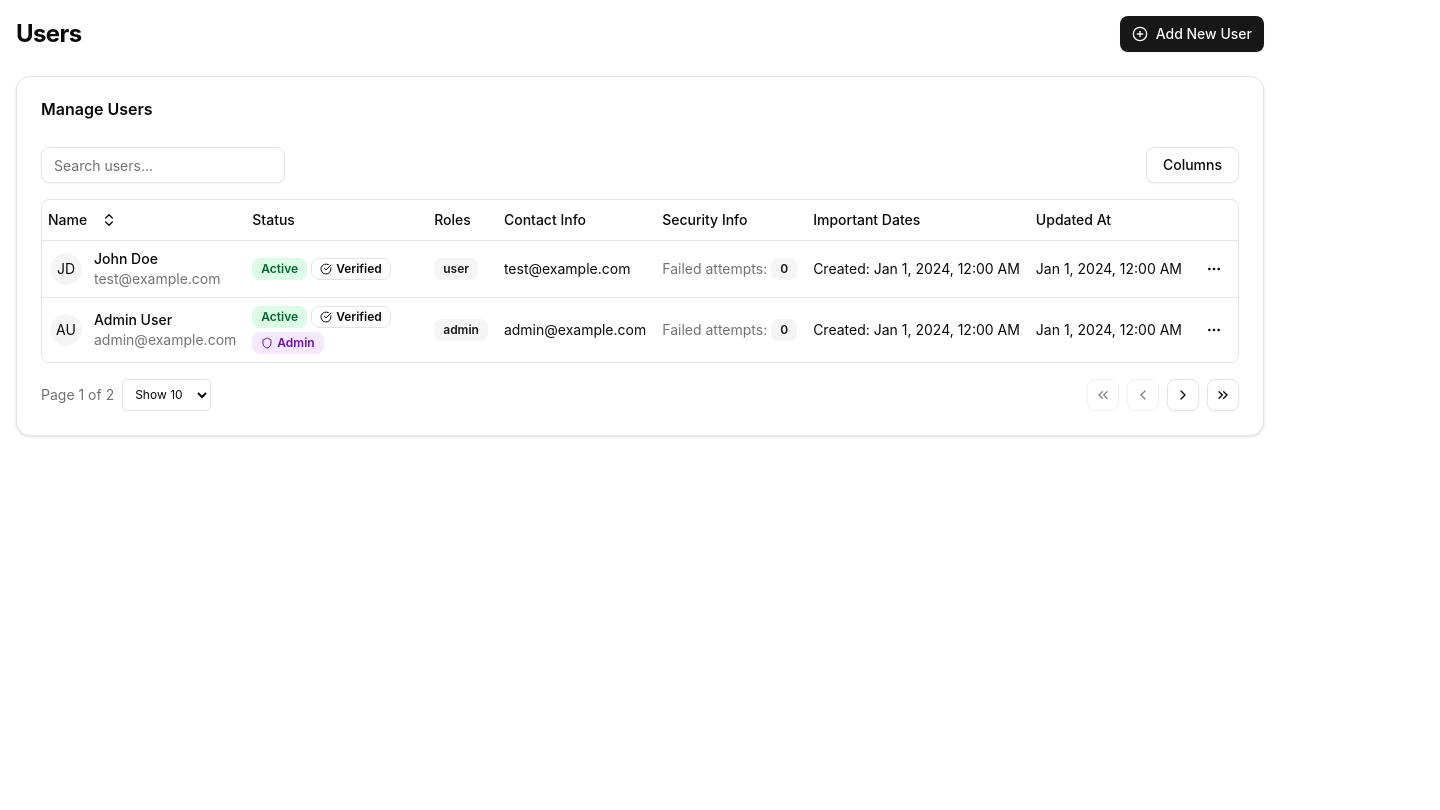
Test case: UsersList Component › User Operations (CRUD) › opens delete confirmation dialog when delete button is clicked
This screenshot has width=1440, height=810.
Click the 1st button named "open menu": (1214, 268) [1198,252,1230,284]
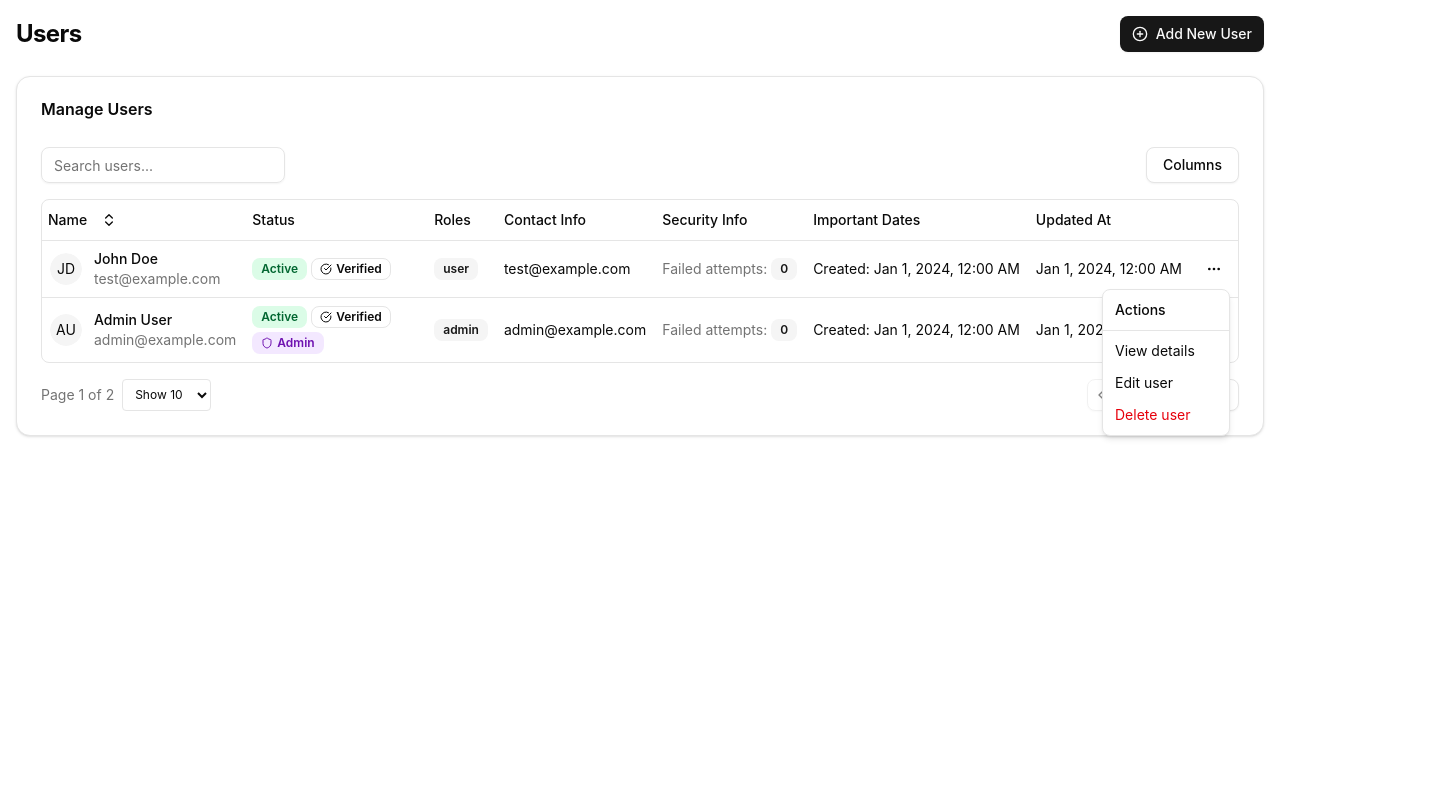
Expected: the menu item with test id "delete-user-button" is shown
Click the menu item with test id "delete-user-button": (1153, 414) [1115,406,1190,423]
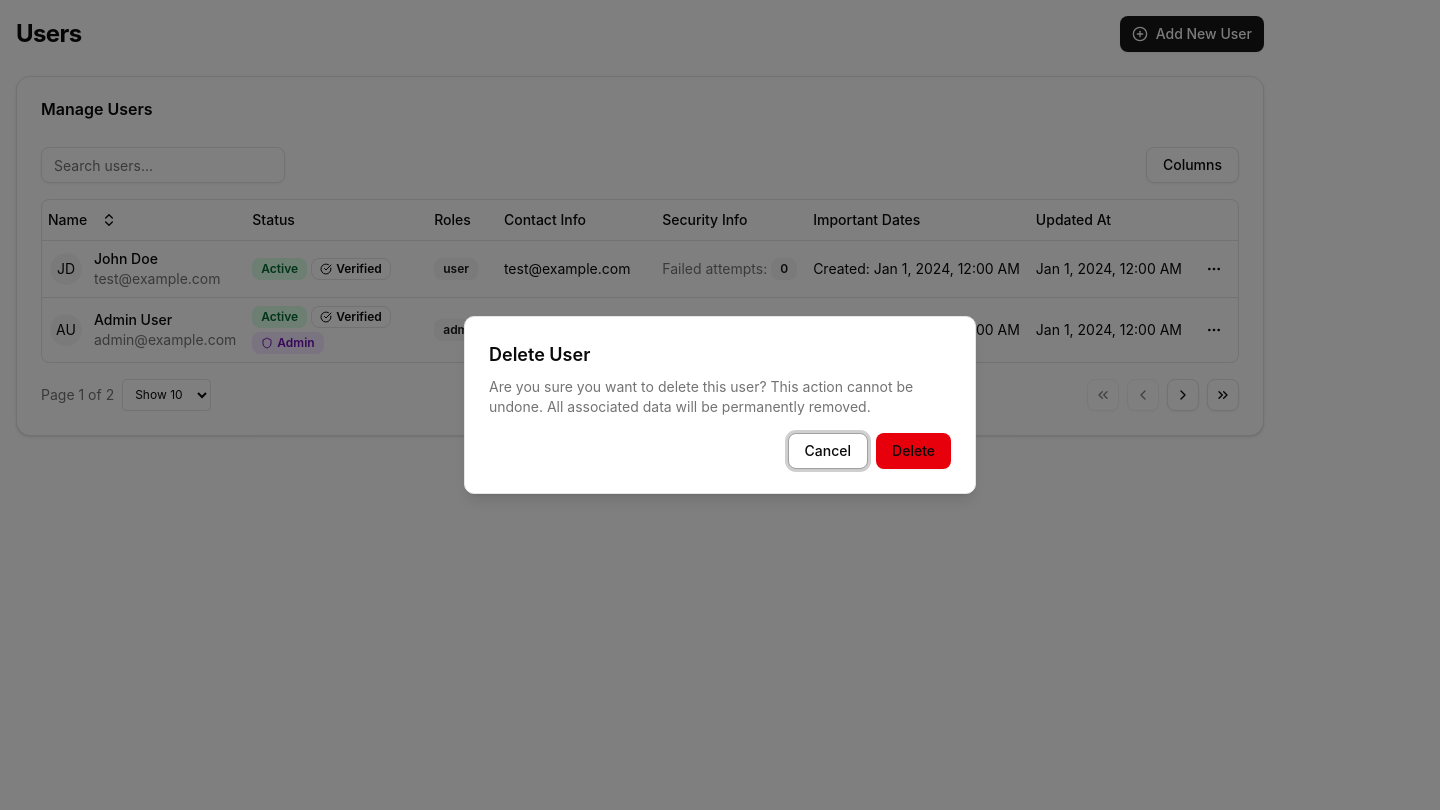
Expected: the heading "Delete User" is shown, [489,344,590,365]
Expected: the text "Are you sure you want to delete this user" is shown, [489,378,913,415]
Expected: the button with test id "confirm-delete-user" is shown, [876,433,951,469]
